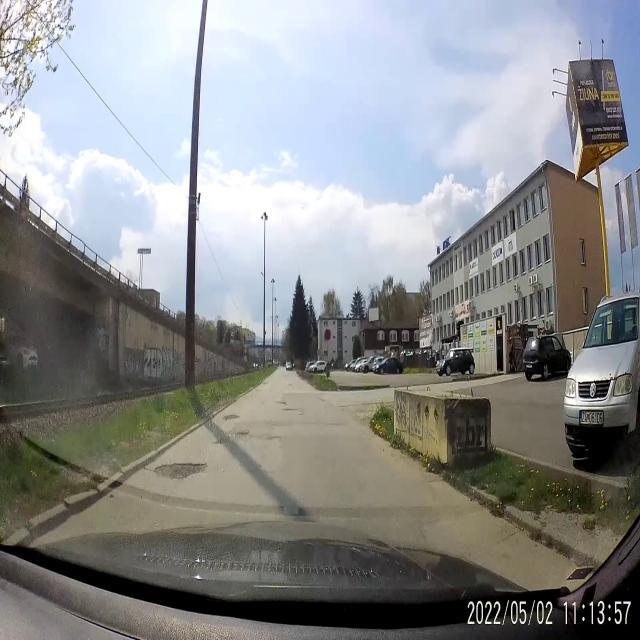Pothole: (153, 458, 210, 484), (220, 406, 239, 426), (234, 428, 252, 438), (264, 435, 284, 443), (282, 406, 300, 414), (275, 400, 289, 406), (288, 382, 292, 386)
